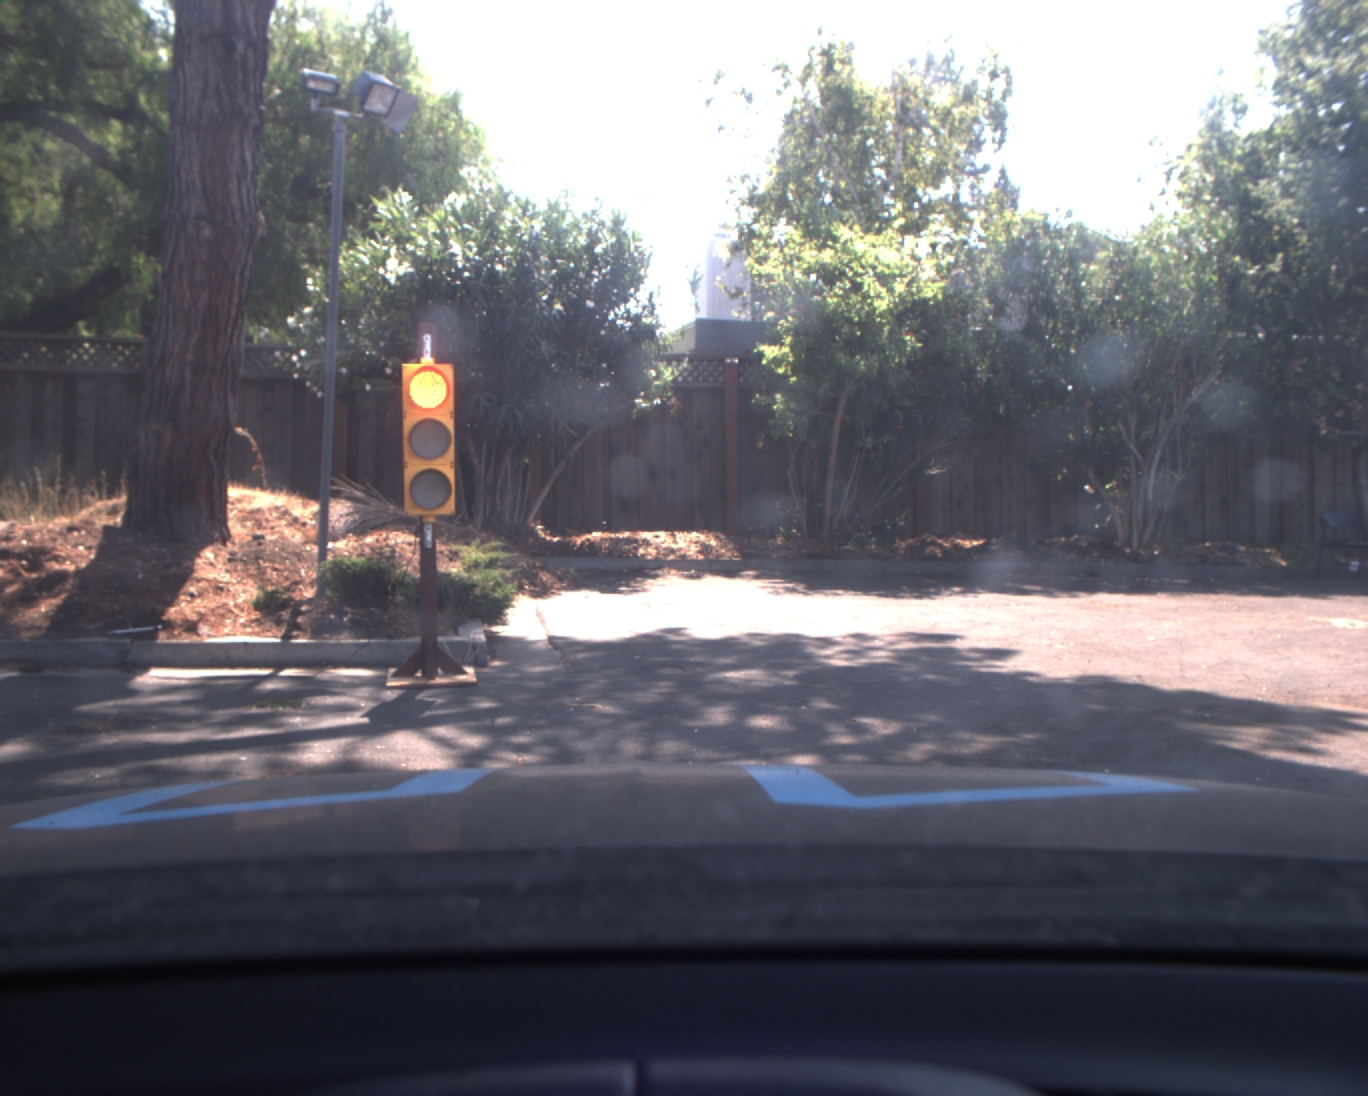red: (405, 362, 457, 515)
